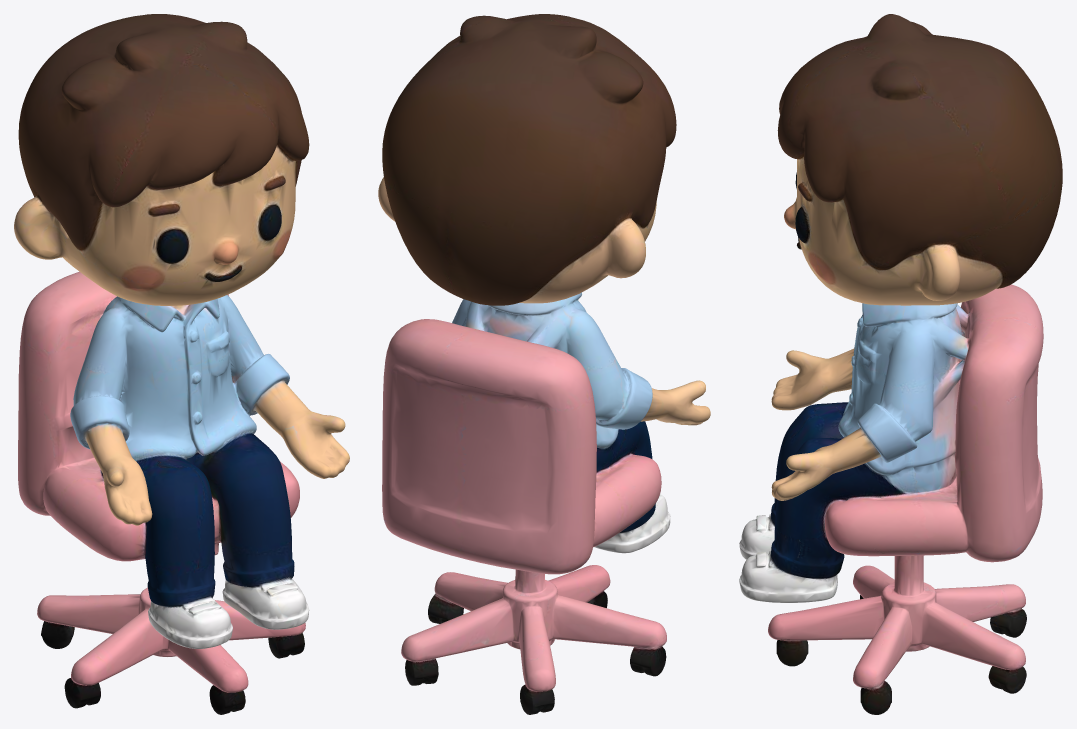
Rendered from seat_male.glb.
3 renders of one model, left to right at view 1: azimuth 30°, elevation 25°; view 2: azimuth 150°, elevation 25°; view 3: azimuth 270°, elevation 25°, orthographic. The views are drawn at different scales.
Size of the model in its own units: 0.822 by 1.9 by 0.8908.
1 material, 1 textured.
